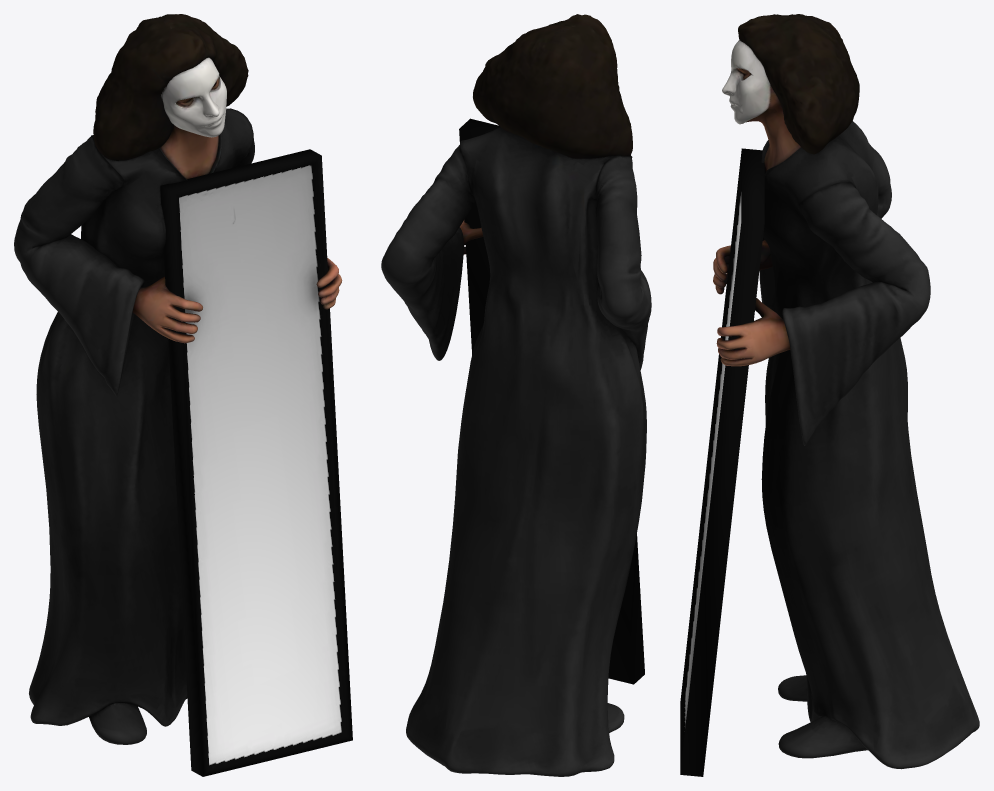
File: MZ4250 - The Unknown.glb
3 views of the same model, side by side, from view 1: azimuth 30°, elevation 25°; view 2: azimuth 150°, elevation 25°; view 3: azimuth 270°, elevation 25° (orthographic). The views are drawn at different scales.
Parts seen in each view (by area): view 1: The Unknown.001; view 2: The Unknown.001; view 3: The Unknown.001.
Part boxes in pixels (bbox=[...]): The Unknown.001: bbox=[14, 14, 352, 776]; The Unknown.001: bbox=[381, 14, 651, 776]; The Unknown.001: bbox=[680, 14, 979, 776].
Size of the model in its own units: 13.56 by 36.05 by 13.88.
Materials: 1 (1 with a texture image).
